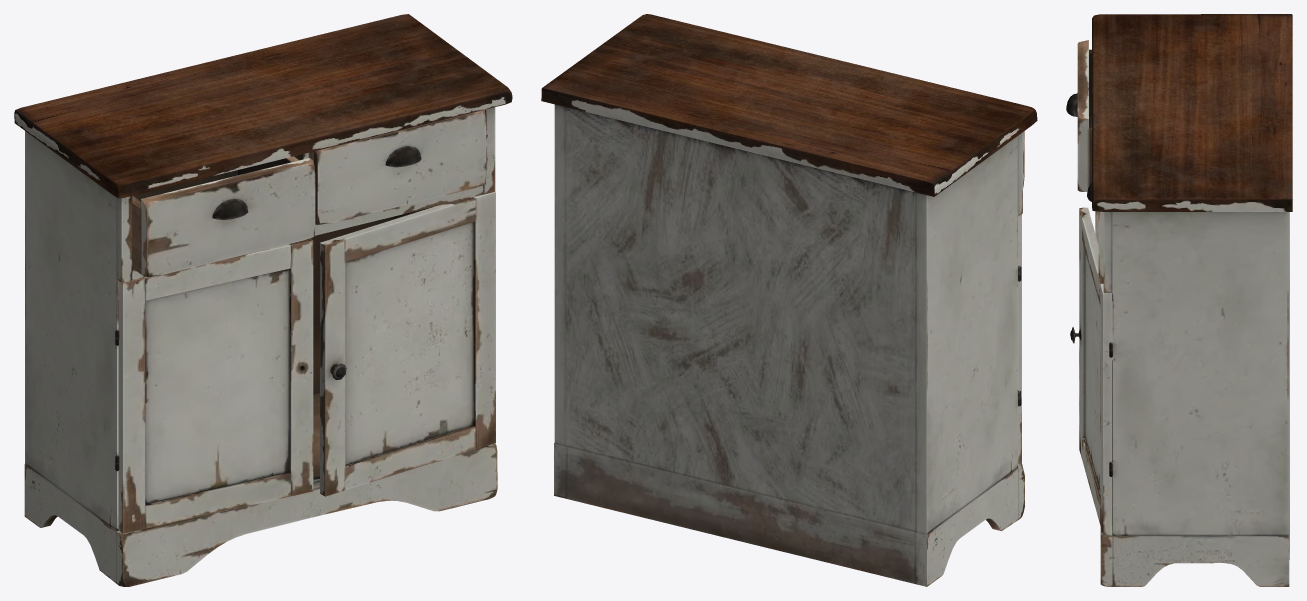
Rendered from painted_wooden_cabinet.glb.
3 views of the same model, side by side, from view 1: azimuth 30°, elevation 25°; view 2: azimuth 150°, elevation 25°; view 3: azimuth 270°, elevation 25° (orthographic). The views are drawn at different scales.
Visible parts, largest first — view 1: painted_wooden_cabinet; view 2: painted_wooden_cabinet; view 3: painted_wooden_cabinet.
Part boxes in pixels (x1=…): painted_wooden_cabinet: x1=14, y1=14, x2=512, y2=586; painted_wooden_cabinet: x1=541, y1=14, x2=1037, y2=586; painted_wooden_cabinet: x1=1066, y1=14, x2=1292, y2=586.
Bounding box in the file's own units: 1.19 × 1.18 × 0.616.
1 material, 1 textured.
